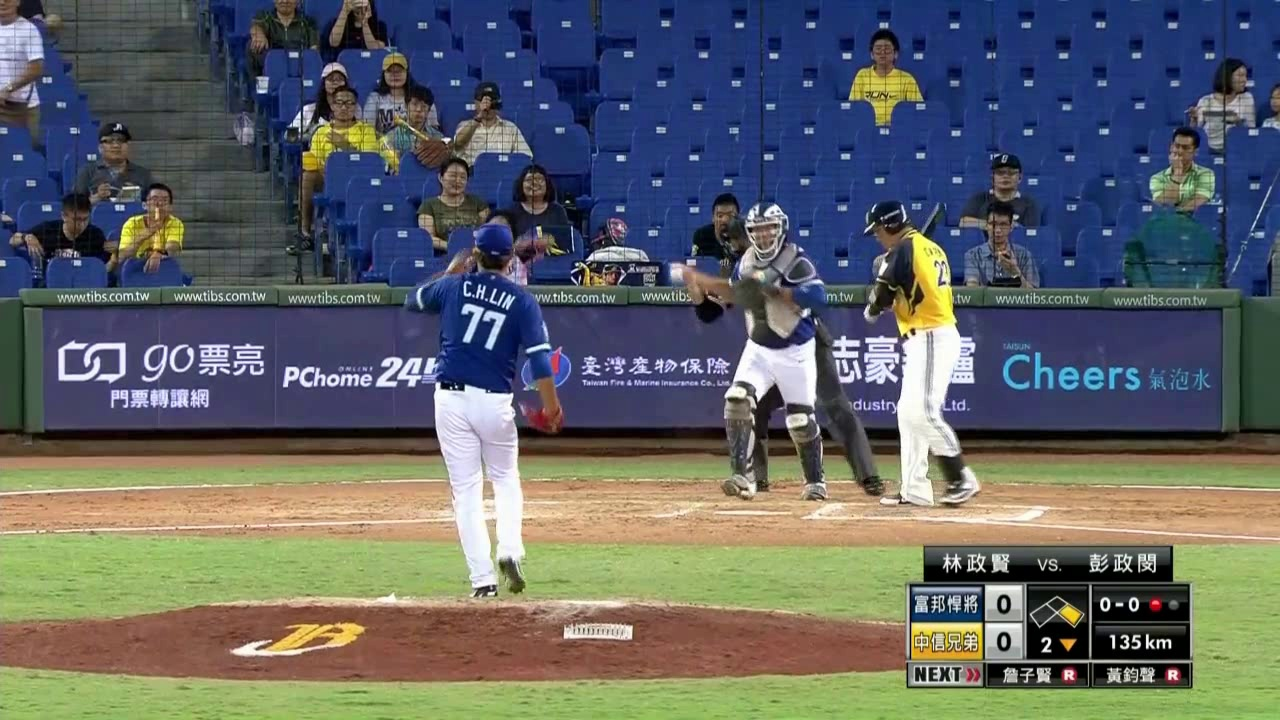ball: (667, 265, 686, 281)
base: (1027, 592, 1085, 629)
bat: (888, 200, 950, 287)
out: (1146, 588, 1186, 619)
score1: (986, 588, 1019, 619)
score2: (988, 626, 1021, 655)
session: (1026, 629, 1090, 660)
speed: (1097, 630, 1186, 657)
strikeball: (1090, 589, 1145, 619)
